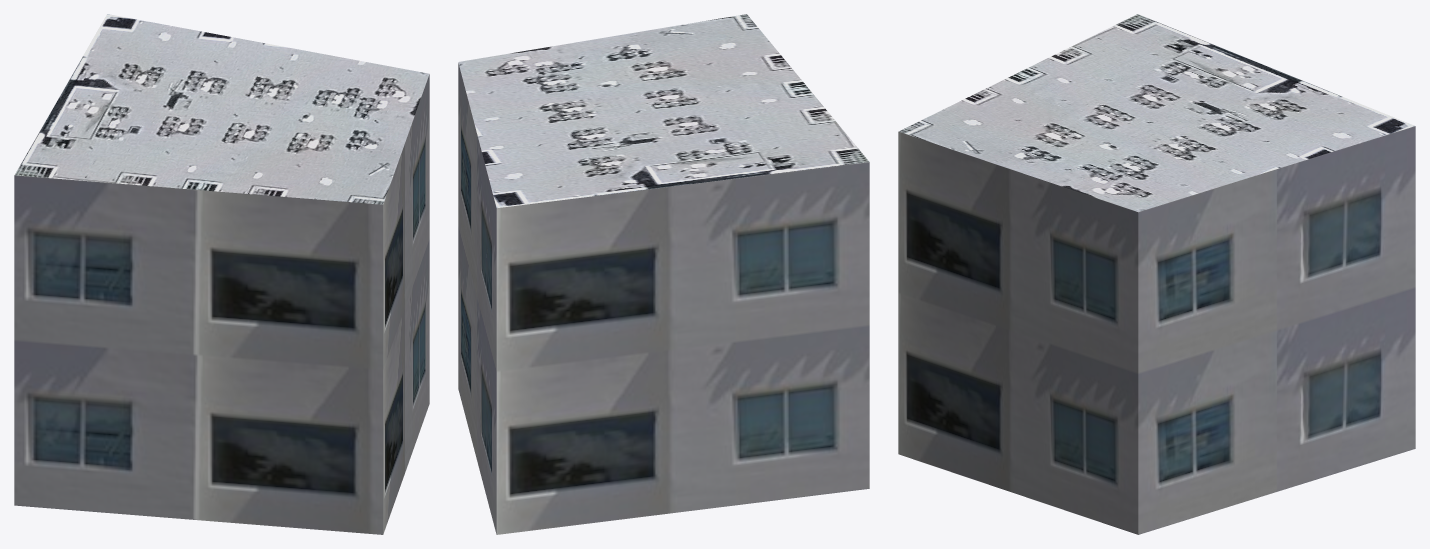
File: ResTex__4184.fbx
3 views of the same model, side by side, from view 1: azimuth 30°, elevation 25°; view 2: azimuth 150°, elevation 25°; view 3: azimuth 270°, elevation 25° (orthographic). The views are drawn at different scales.
Parts seen in each view (by area): view 1: CityEngineMaterial_10_m, CityEngineMaterial_4_m; view 2: CityEngineMaterial_10_m, CityEngineMaterial_4_m; view 3: CityEngineMaterial_10_m, CityEngineMaterial_4_m.
Part boxes in pixels (x1,y1,x2,y2): CityEngineMaterial_10_m: (14,74,429,534); CityEngineMaterial_4_m: (14,14,429,204); CityEngineMaterial_10_m: (458,63,869,534); CityEngineMaterial_4_m: (458,14,869,208); CityEngineMaterial_10_m: (898,126,1415,534); CityEngineMaterial_4_m: (899,14,1414,212).
Bounding box in the file's own units: 7.9 × 6 × 8.71.
2 materials, 2 textured.
